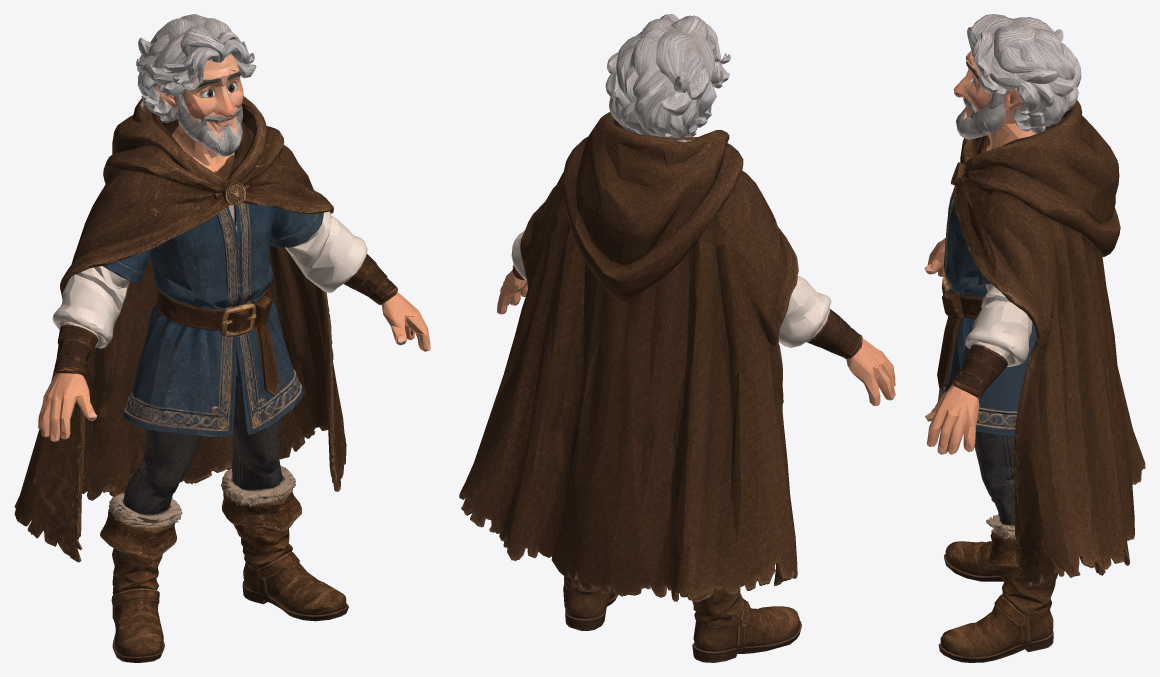
File: violinist_medieval.fbx
3 views of the same model, side by side, from view 1: azimuth 30°, elevation 25°; view 2: azimuth 150°, elevation 25°; view 3: azimuth 270°, elevation 25° (orthographic). The views are drawn at different scales.
Visible parts, largest first — view 1: violinist_medieval; view 2: violinist_medieval; view 3: violinist_medieval.
Part boxes in pixels (box(x1,y1,x2,y2)): violinist_medieval: box(14, 14, 430, 662); violinist_medieval: box(459, 14, 895, 662); violinist_medieval: box(924, 14, 1145, 662).
Size of the model in its own units: 1.25 by 1.85 by 0.6306.
1 material, 1 textured.
